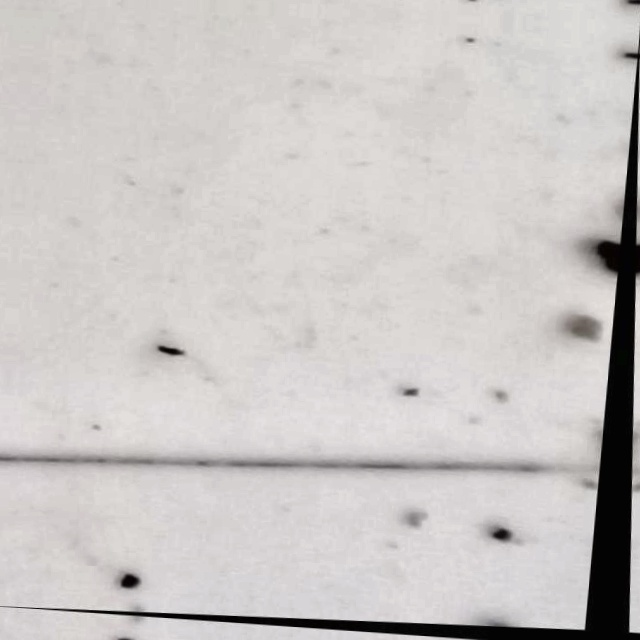varroa: (593, 238, 623, 288)
